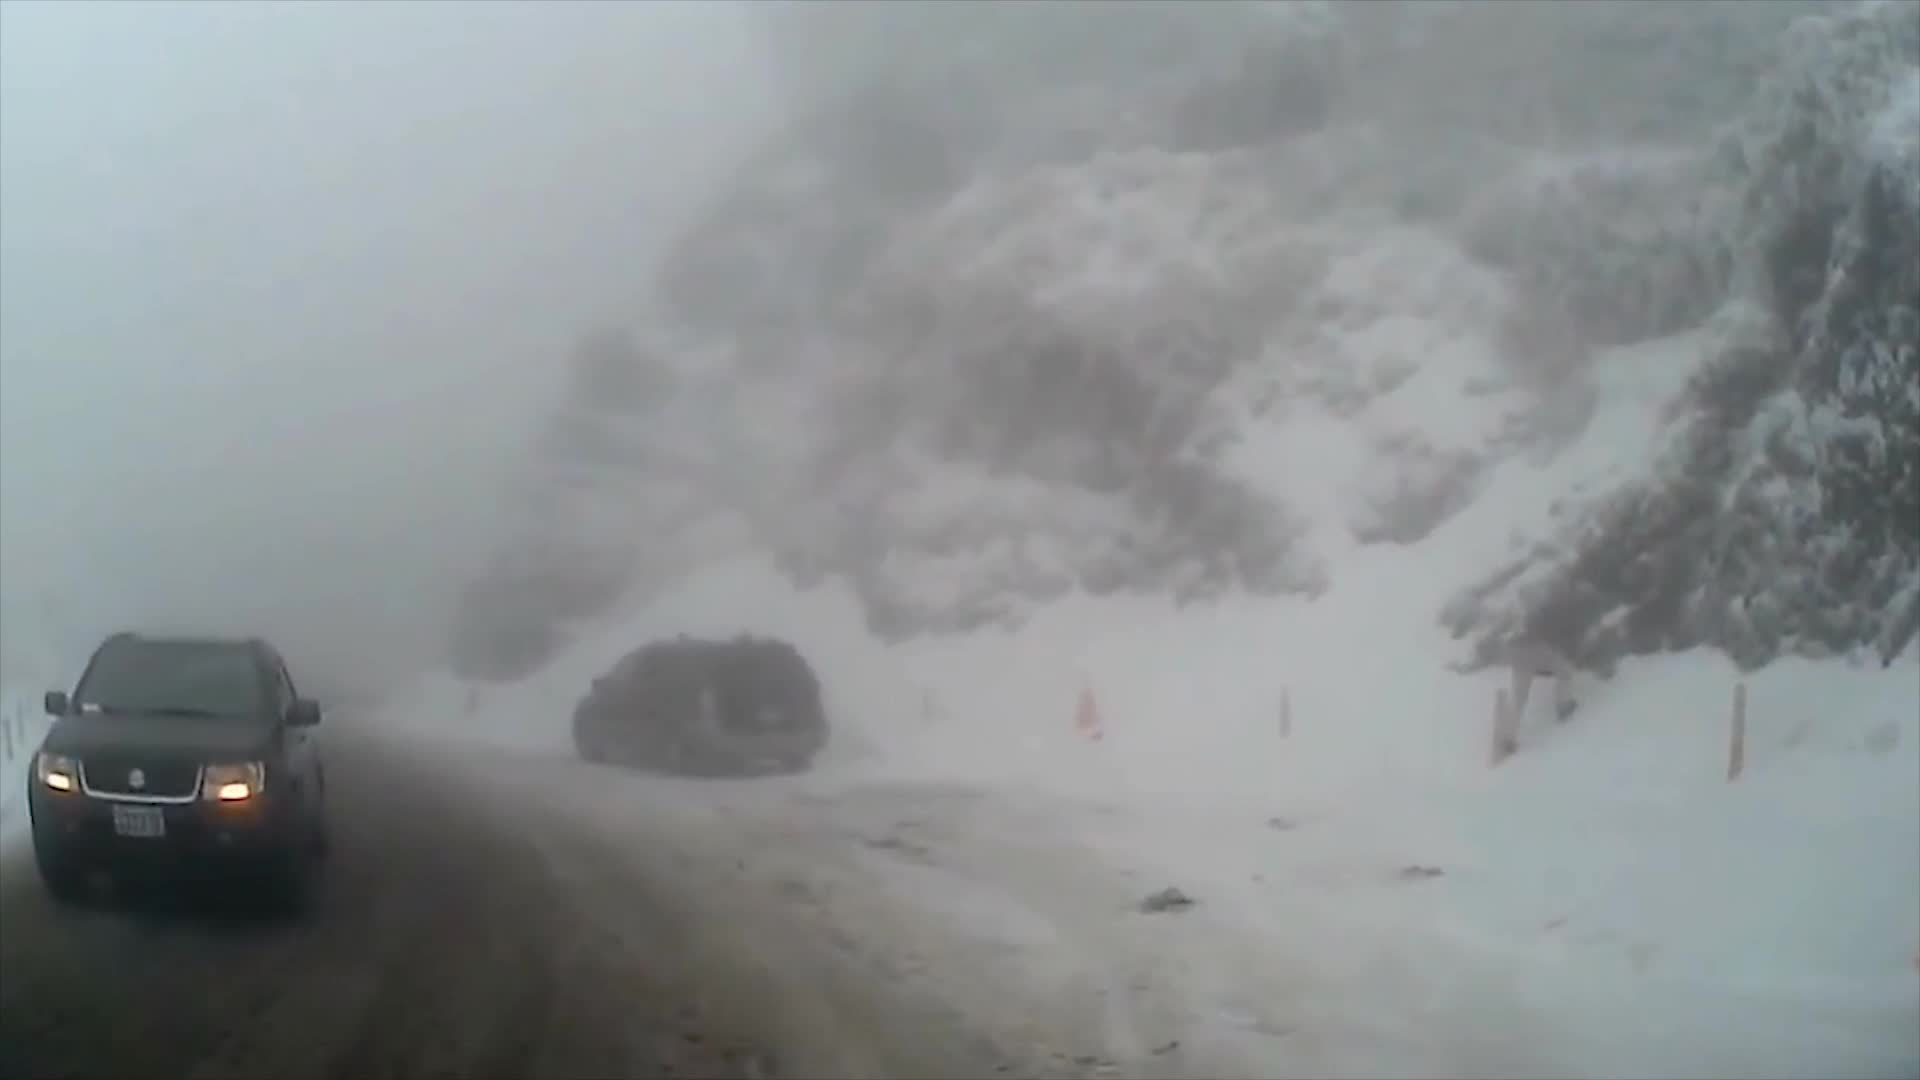vehicle: (22, 629, 335, 922), (570, 640, 825, 781)
